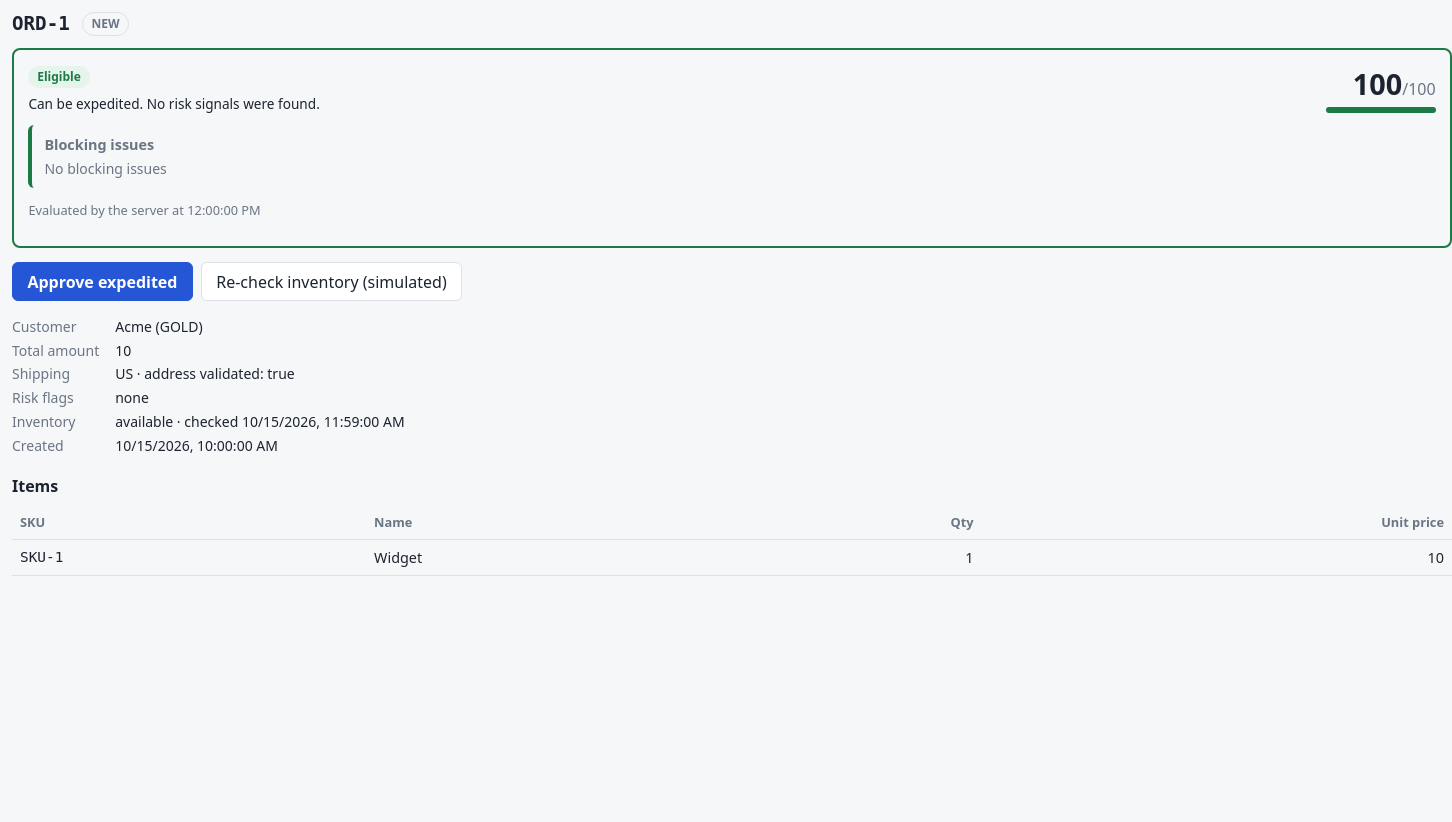
Test case: OrderDetail approval › shows the structured error when the order became ineligible
Click the button "Approve expedited" at (102, 282), box [12,262,193,301]
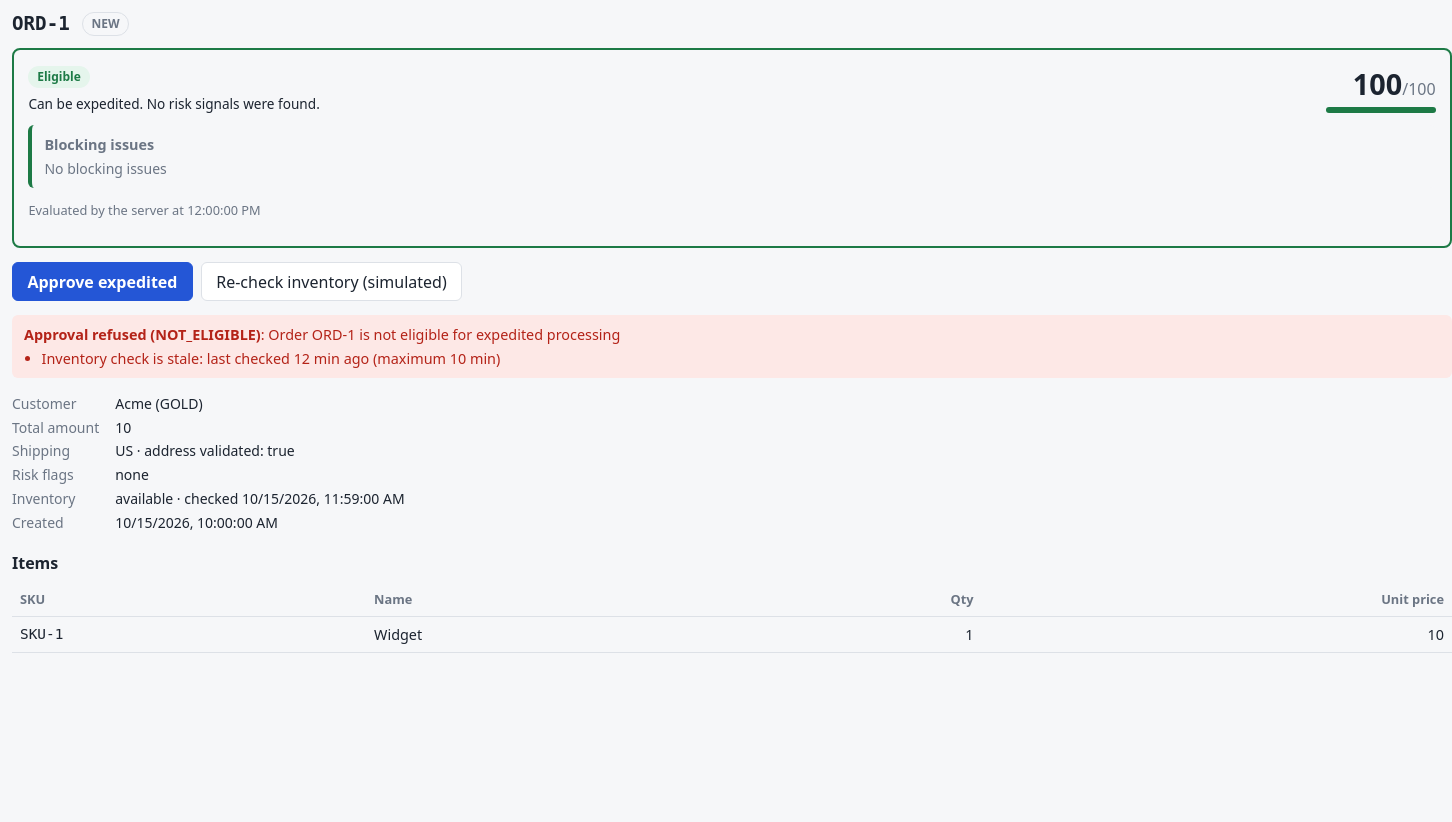
Expected: the message shows "NOT_ELIGIBLE", [155,325,256,344]
Expected: the message shows "Inventory check is stale", [42,349,500,368]
